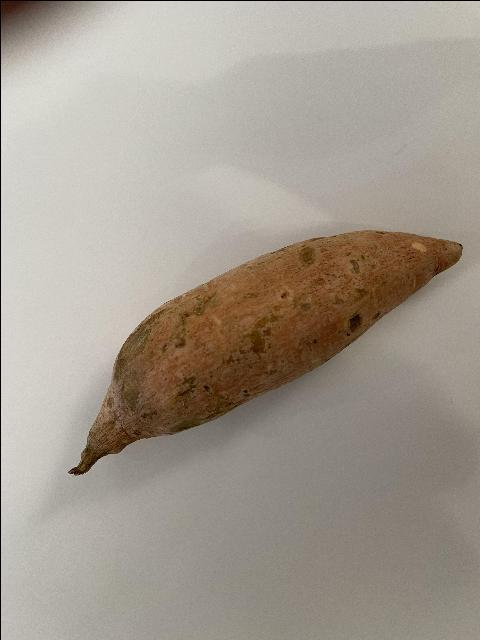sweetpotato: (67, 227, 463, 478)
